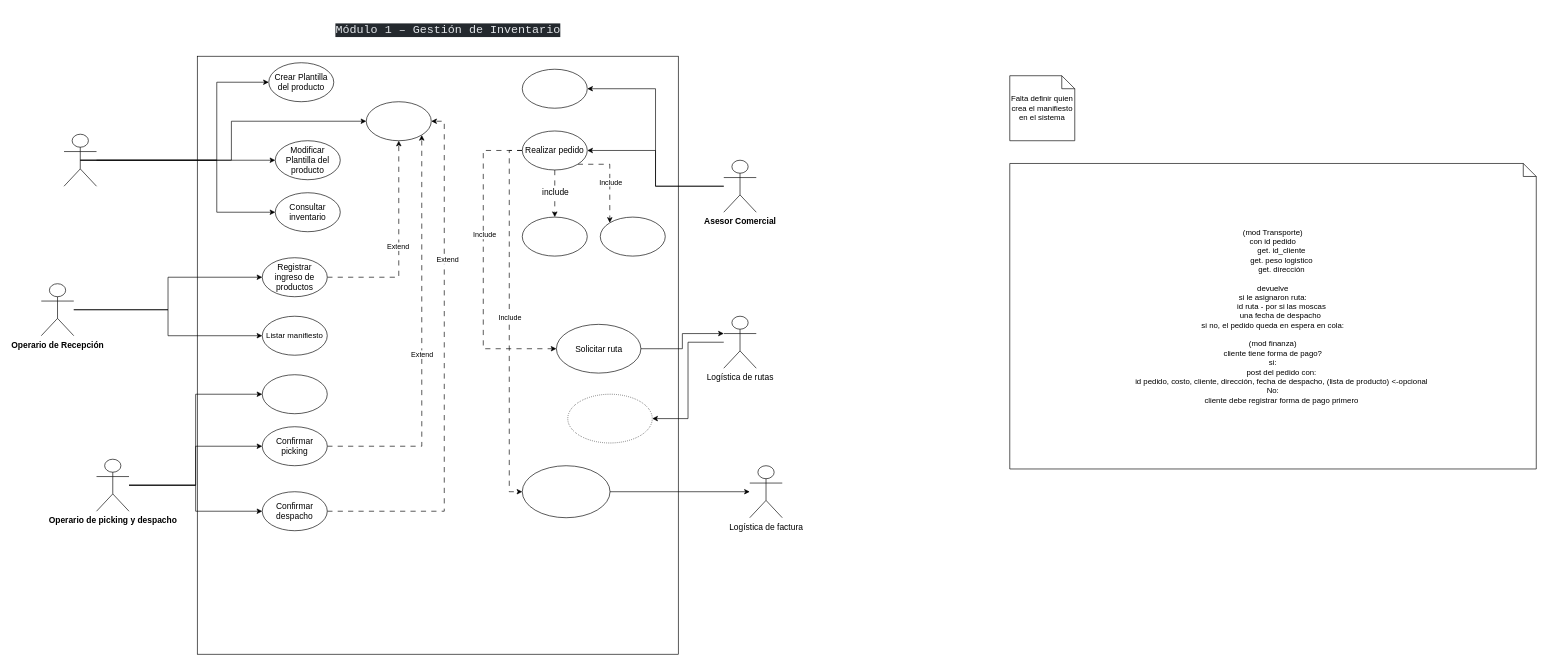
Some shapes in this 1548 by 666 pixel diagram are drawn without their labels. Here are the shapes that lost their labels. From the top down, the box of each, then its label:
(522, 69, 587, 108): Consultar productos
(366, 101, 431, 141): Reportar excepciones de inventario
(63, 134, 97, 186): Supervisor de inventario
(522, 216, 587, 256): Consultar disponibilidad
(600, 216, 665, 256): Consultar datos del cliente
(262, 374, 327, 414): listar pedidos comprometidos
(567, 394, 652, 443): Asignar ruta
(522, 465, 610, 518): Ofrecer detalles del pedido
